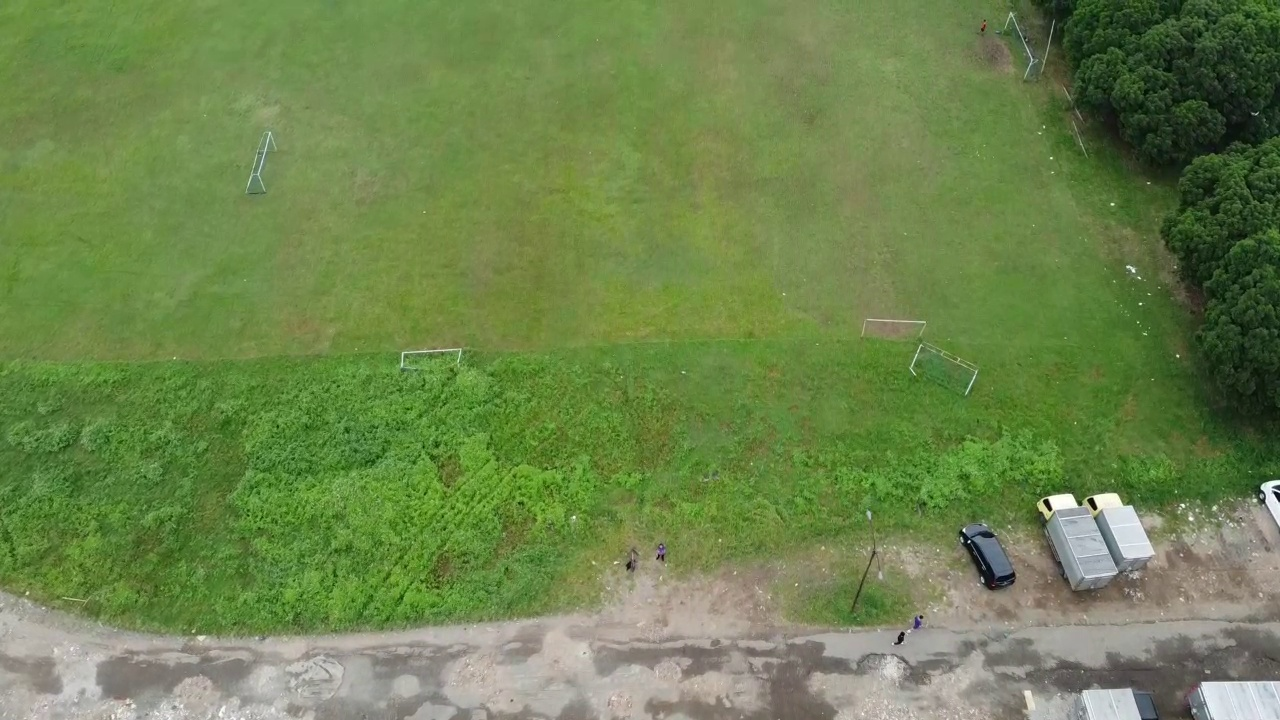mobil: (948, 517, 1023, 595)
